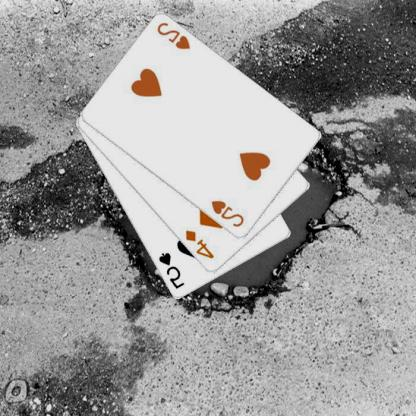2H: (156, 20, 194, 52), (210, 198, 248, 229)
4D: (184, 228, 218, 261)
5S: (158, 250, 187, 291)
